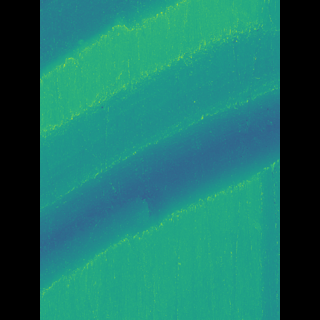Loch: (69, 77, 250, 296), (70, 0, 177, 75)
